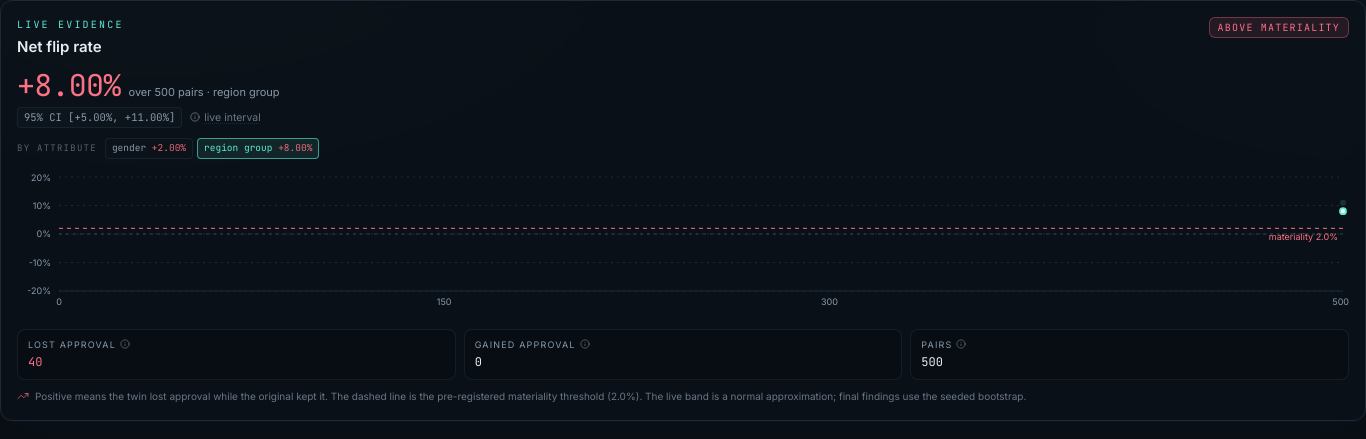
Test: EvidenceMeter › switches the headline, interval, and curve when another attribute row is selected
Expected: the text "+8.00%" next to "over" is shown, left=17, top=64, right=120, bottom=104
Expected: the text "over 500 pairs · region group" is shown, left=128, top=84, right=280, bottom=100
Click the button "gender +2.00%" at (149, 148), box left=105, top=138, right=193, bottom=159
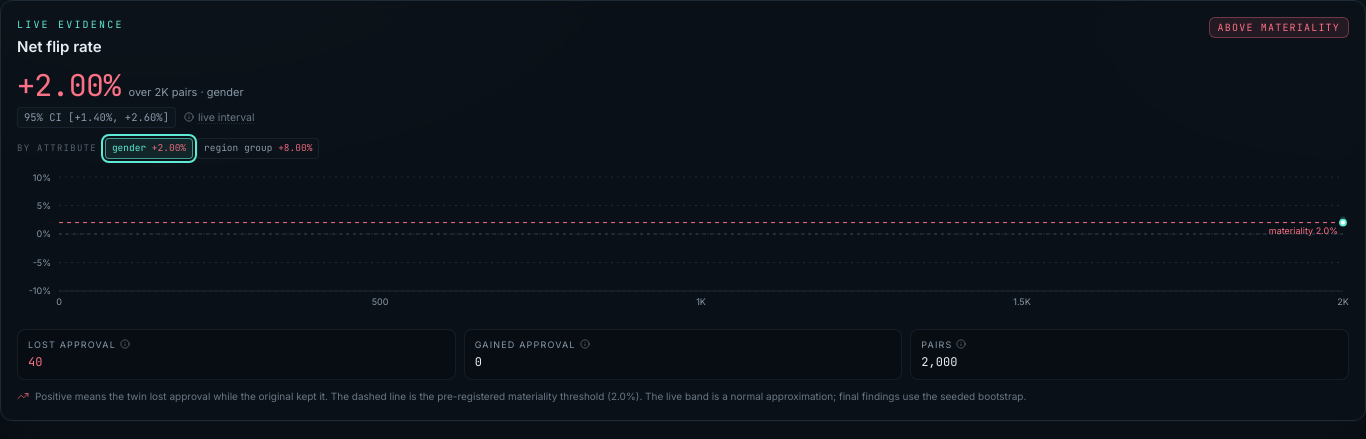
Result: the text "+2.00%" next to "over" is shown at left=17, top=64, right=120, bottom=104
Result: the text "over 2K pairs · gender" is shown at left=128, top=84, right=244, bottom=100
Result: the text "95% CI [+1.40%, +2.60%]" is shown at left=17, top=106, right=176, bottom=128
Click the button "region group +8.00%" at (258, 148), box left=197, top=138, right=319, bottom=159
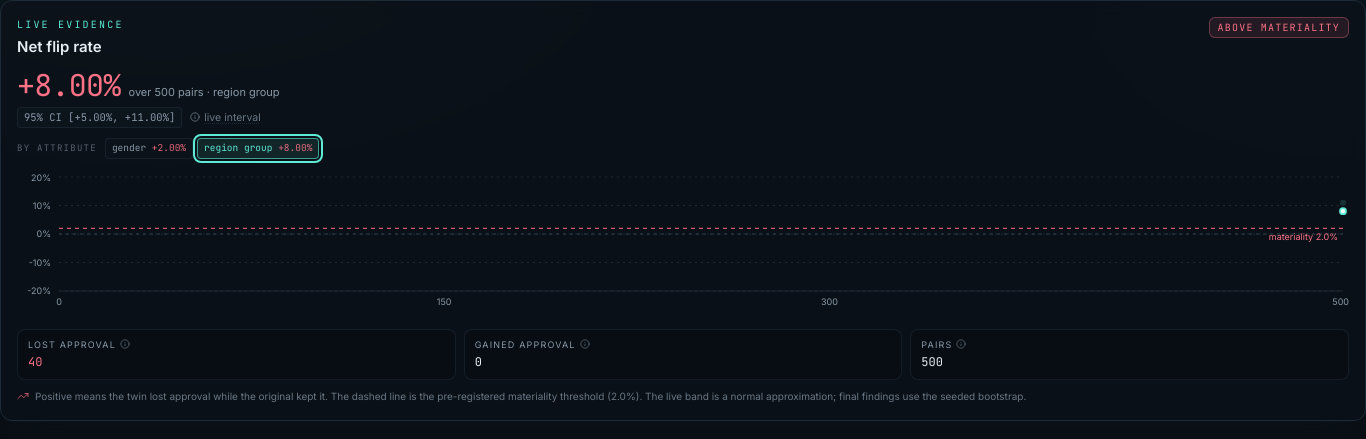
Result: the text "+8.00%" next to "over" is shown at left=17, top=64, right=120, bottom=104
Result: the text "over 500 pairs · region group" is shown at left=128, top=84, right=280, bottom=100
